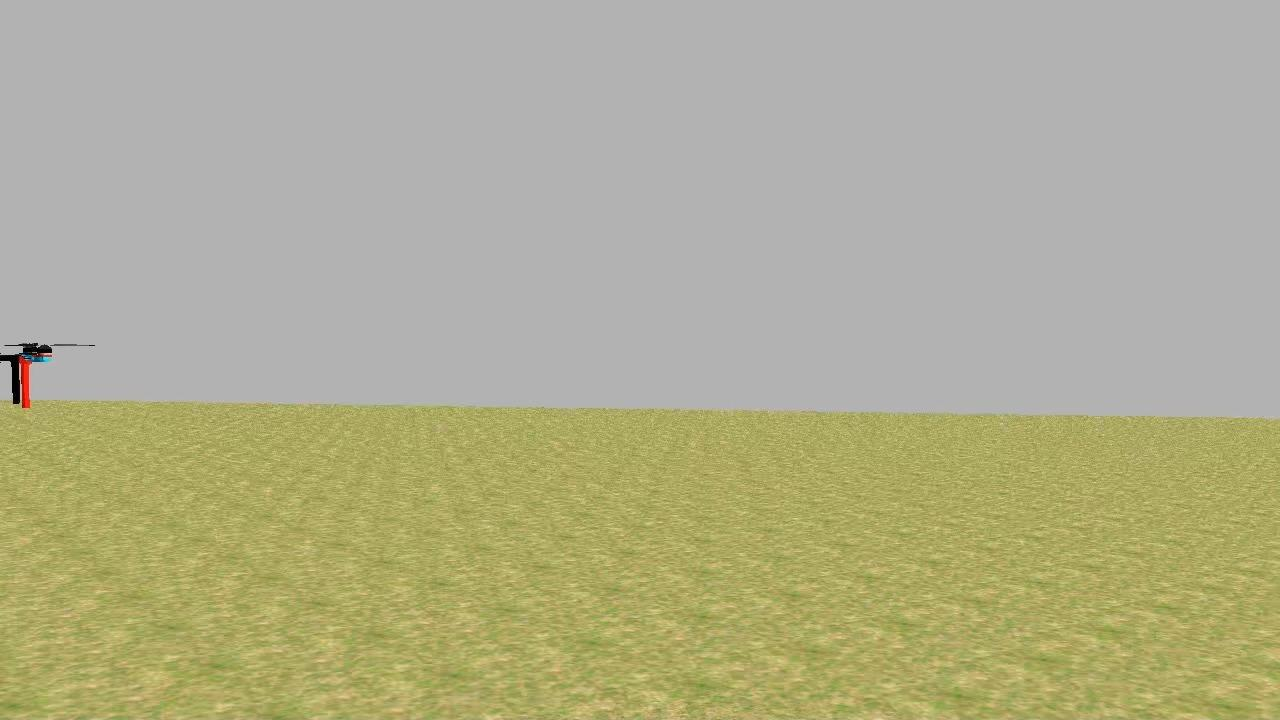UAV: (0, 330, 66, 420)
